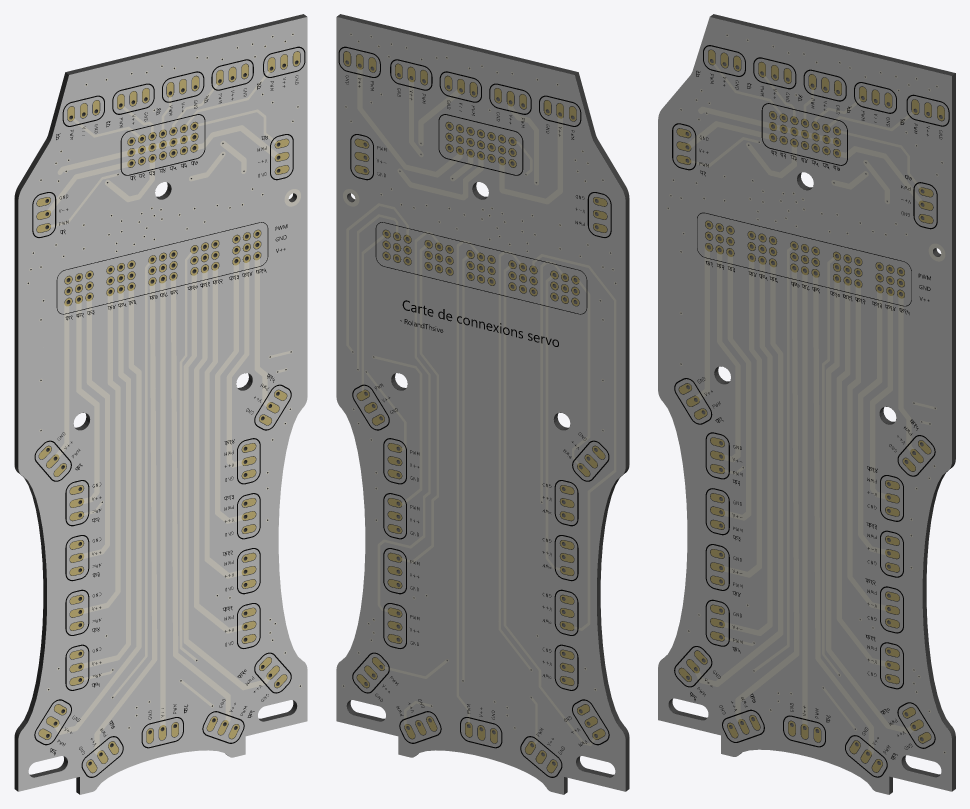
The model's file is pcb_mobo_snapon+v9(White and black).glb.
3 renders of one model, left to right at view 1: azimuth 30°, elevation 25°; view 2: azimuth 150°, elevation 25°; view 3: azimuth 330°, elevation 25°, orthographic.
Visible parts, largest first — view 1: Shape_3, Shape, Shape_2, Shape_6, Shape_1; view 2: Shape_5, Shape, Shape_4, Shape_1, Shape_7; view 3: Shape_3, Shape, Shape_2, Shape_6, Shape_1.
Part boxes in pixels (bbox=[...]): Shape_3: bbox=[18, 17, 307, 794]; Shape: bbox=[18, 17, 306, 794]; Shape_2: bbox=[27, 33, 301, 772]; Shape_6: bbox=[32, 46, 305, 777]; Shape_1: bbox=[14, 14, 306, 794]; Shape_5: bbox=[336, 17, 625, 794]; Shape: bbox=[337, 17, 625, 794]; Shape_4: bbox=[342, 33, 616, 772]; Shape_1: bbox=[337, 14, 629, 794]; Shape_7: bbox=[338, 46, 611, 777]; Shape_3: bbox=[658, 17, 951, 794]; Shape: bbox=[658, 17, 951, 793]; Shape_2: bbox=[667, 34, 945, 772]; Shape_6: bbox=[672, 45, 949, 777]; Shape_1: bbox=[667, 14, 955, 794].
Bounding box in the file's own units: 70 × 167 × 1.75.
